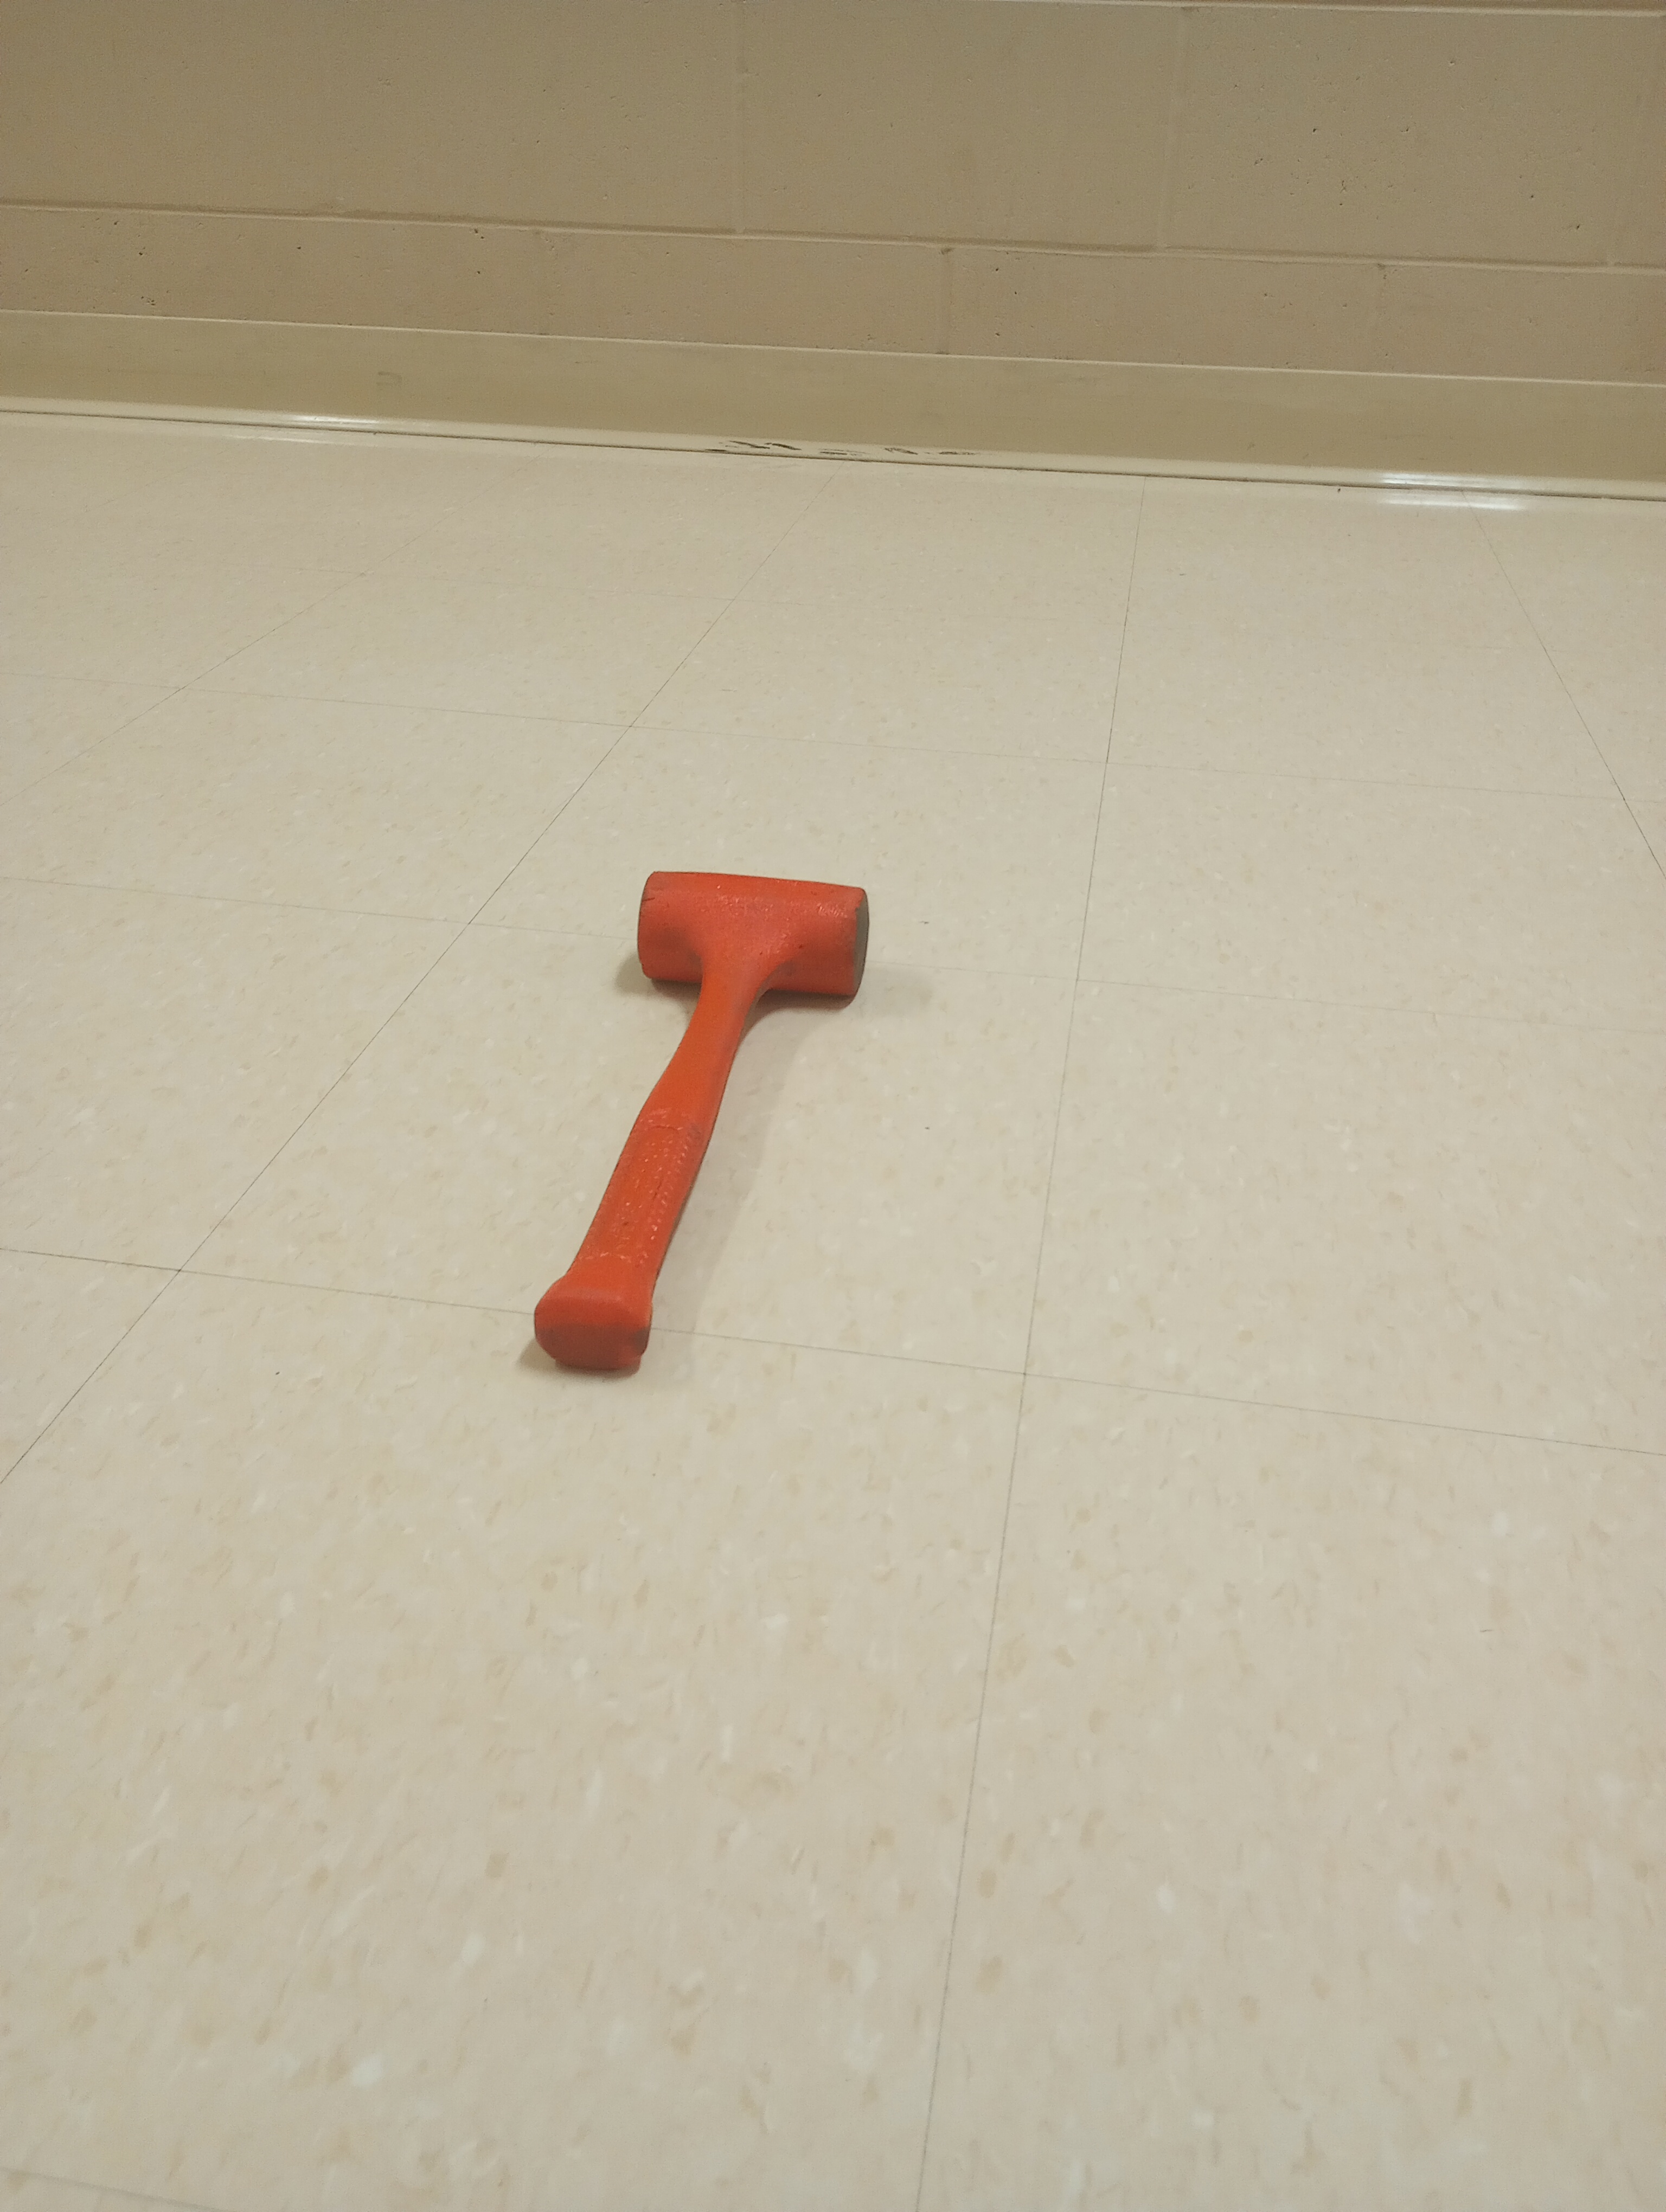bottle: (529, 859, 873, 1385)
